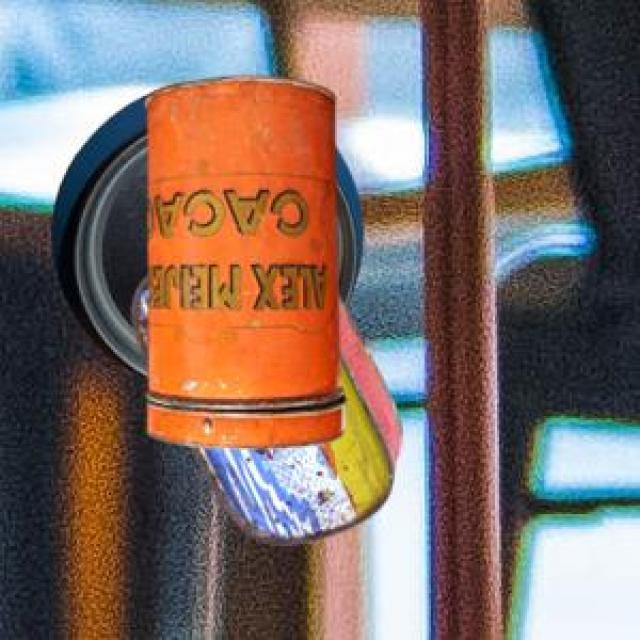Can: (50, 93, 359, 374), (142, 74, 342, 445), (129, 272, 400, 541)
